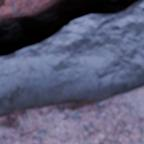brick: (0, 86, 143, 143)
broken_brick: (0, 0, 46, 15)
crack: (0, 0, 143, 58)
